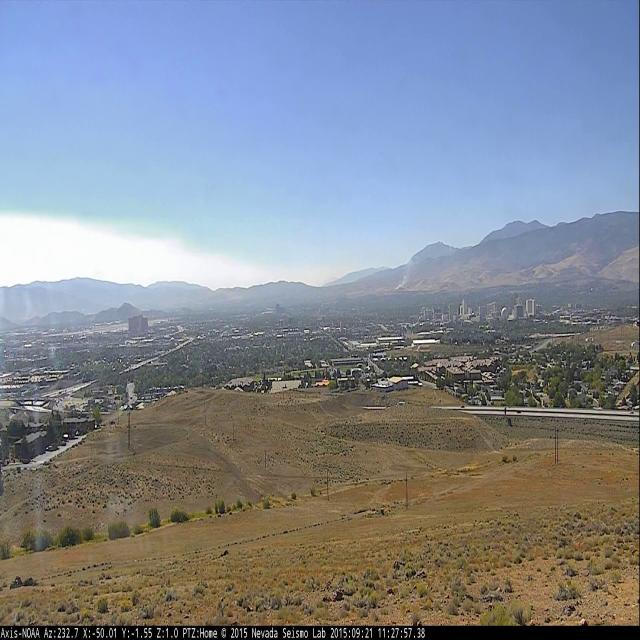smoke: (393, 259, 413, 289)
